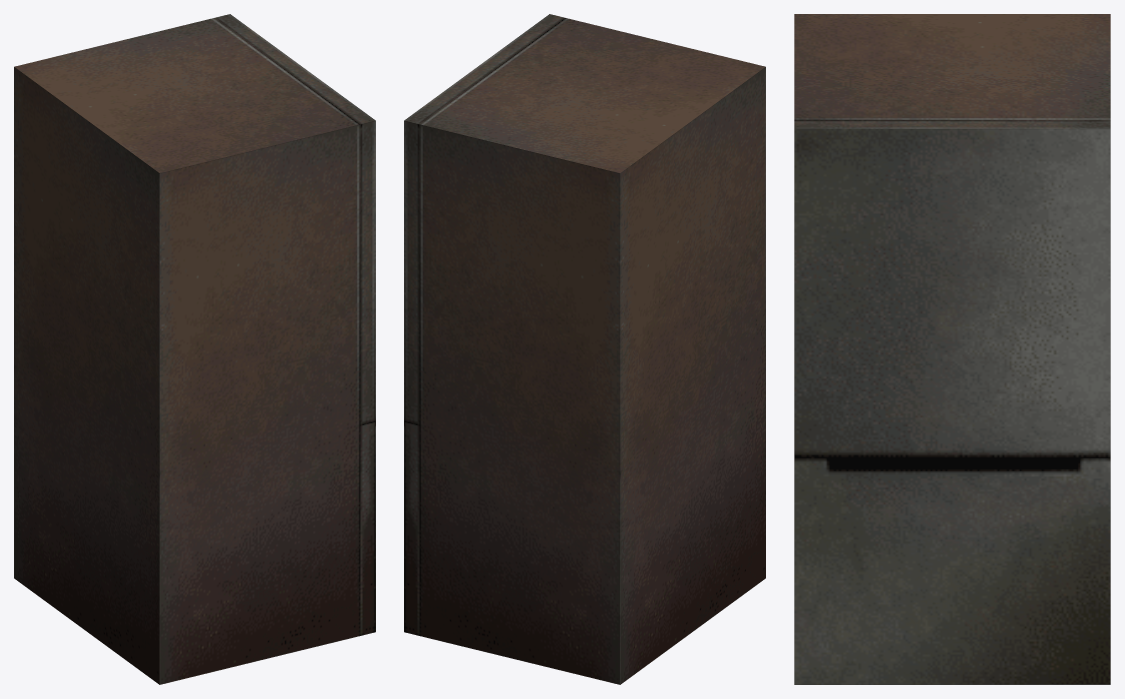
Rendered from fridge.fbx.
The picture shows the model from 3 angles, left to right: view 1: azimuth 30°, elevation 25°; view 2: azimuth 150°, elevation 25°; view 3: azimuth 270°, elevation 25°; orthographic projection. The views are drawn at different scales.
Parts seen in each view (by area): view 1: Fridge; view 2: Fridge; view 3: Fridge.
Part boxes in pixels (<box>): Fridge: <box>14,14,375,684</box>; Fridge: <box>404,14,765,684</box>; Fridge: <box>794,14,1110,684</box>.
Size of the model in its own units: 84 by 190 by 98.
